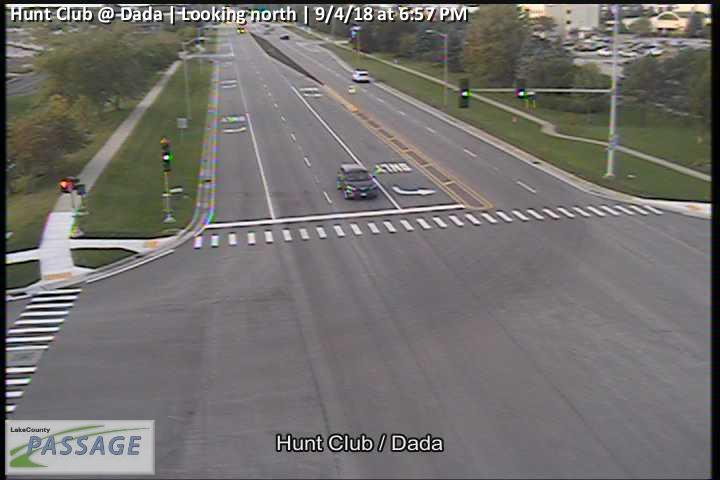Sedan: (337, 163, 378, 200), (352, 70, 369, 83)
